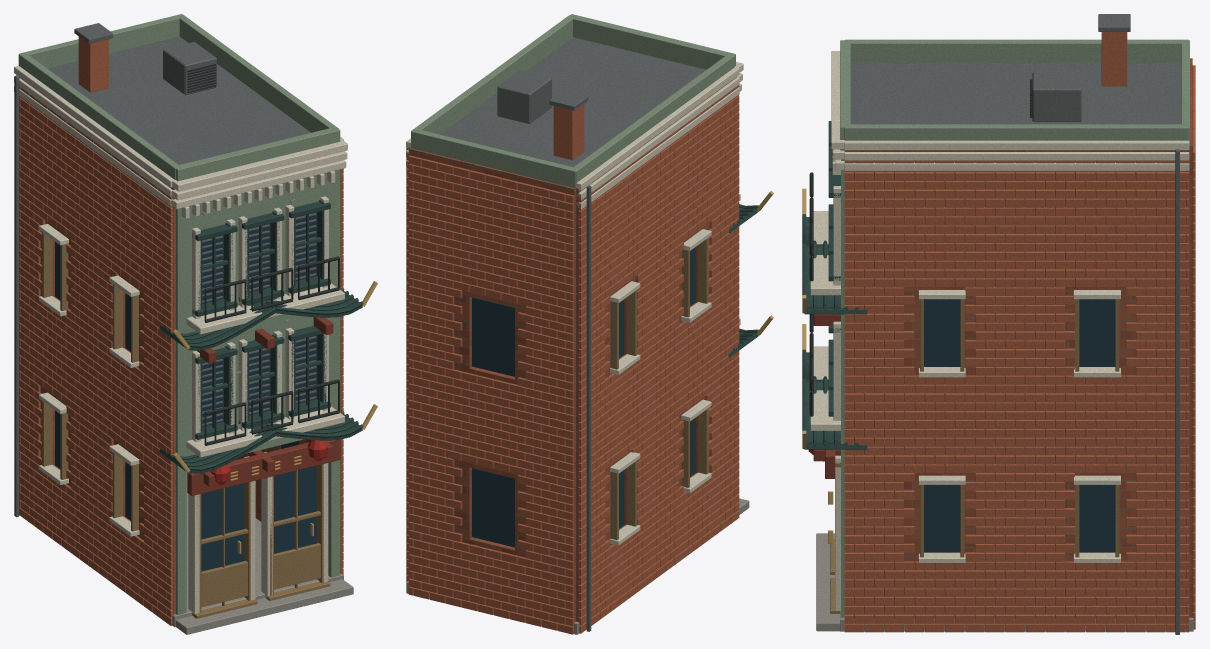
The model's file is CHINA14_lod0.glb.
3 renders of one model, left to right at view 1: azimuth 30°, elevation 25°; view 2: azimuth 150°, elevation 25°; view 3: azimuth 270°, elevation 25°, orthographic. The views are drawn at different scales.
Parts seen in each view (by area): view 1: CHINA14_LOD0; view 2: CHINA14_LOD0; view 3: CHINA14_LOD0.
Boxes of the visible parts, x1,y1,x2,y2 form: CHINA14_LOD0: [14, 14, 377, 634]; CHINA14_LOD0: [406, 14, 773, 634]; CHINA14_LOD0: [802, 14, 1195, 634].
Size of the model in its own units: 4.49 by 10.45 by 6.85.
Materials: 16 (13 with a texture image).
